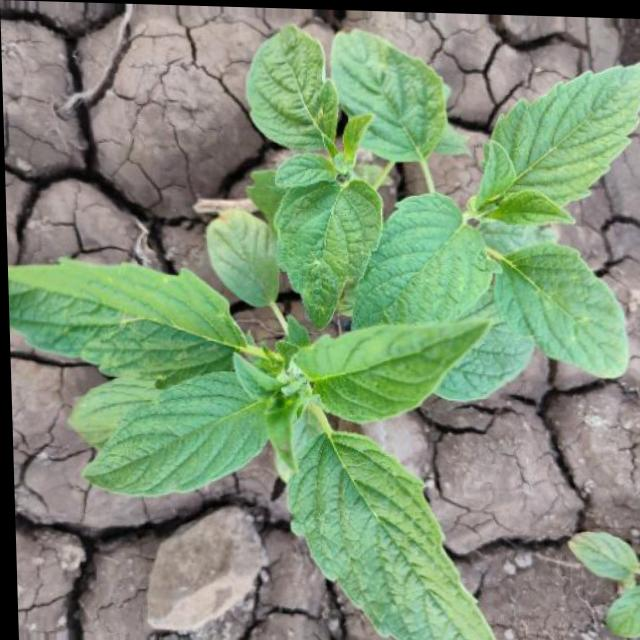crop: (22, 37, 631, 619)
